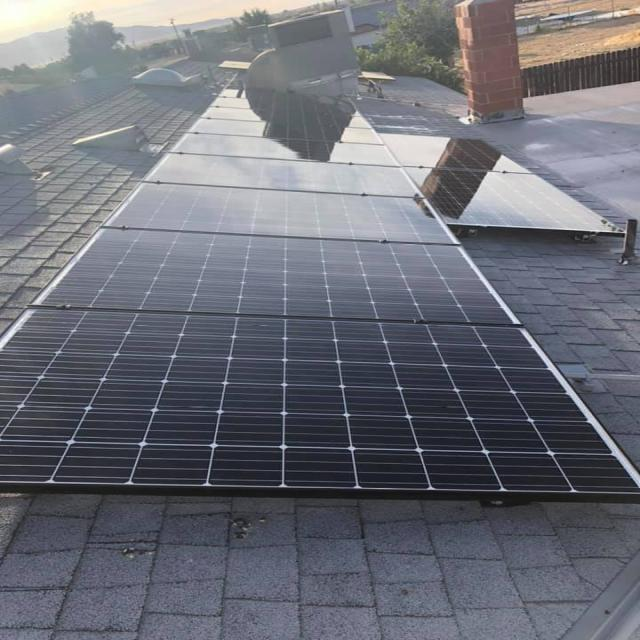clean-solar-panel: (2, 90, 637, 499)
